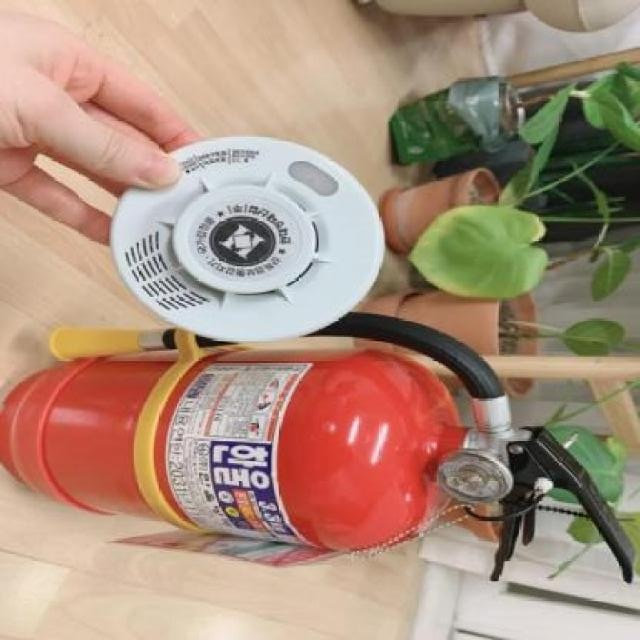fire extinguisher: (0, 311, 637, 584)
